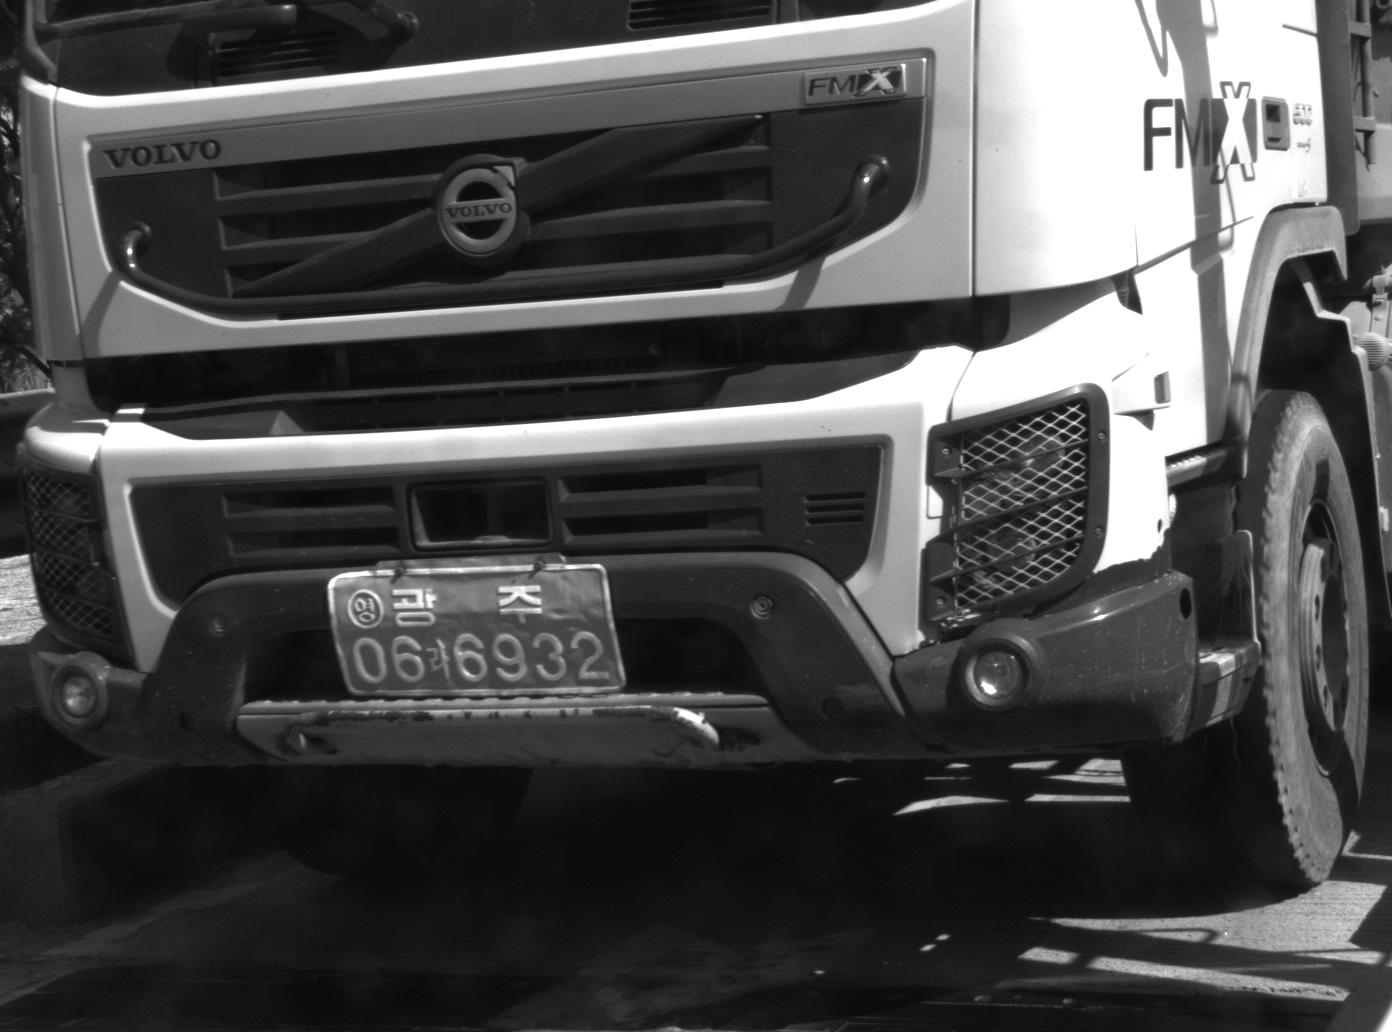car: (13, 1, 1392, 903)
plate: (322, 562, 634, 699)
